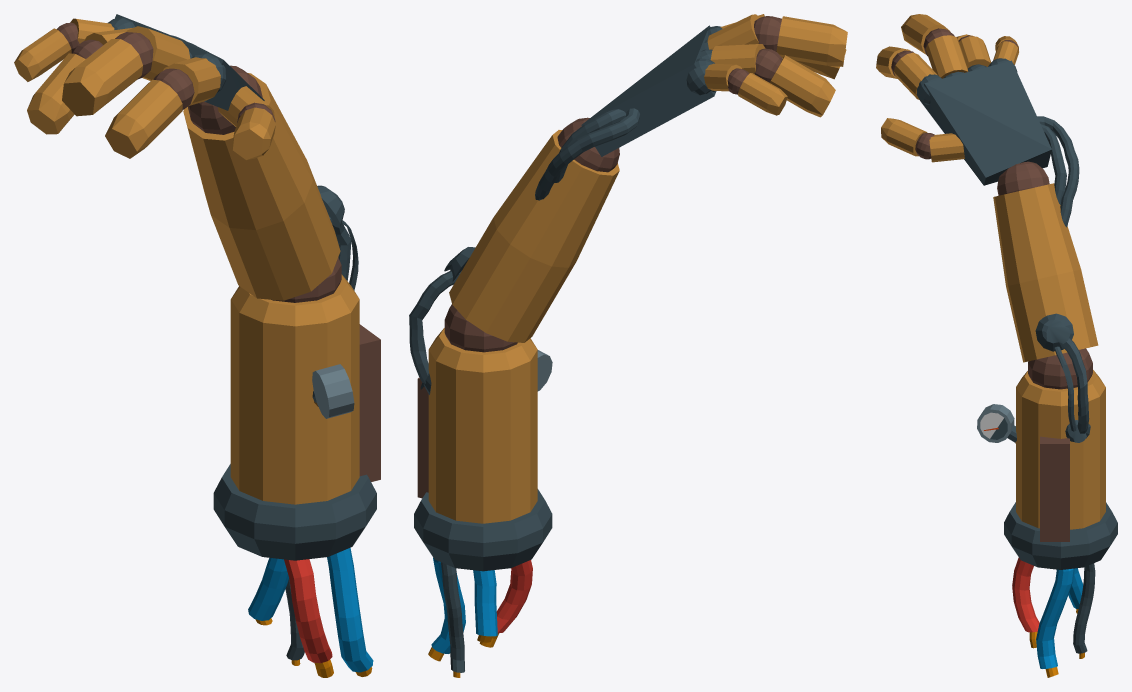
3 renders of one model, left to right at view 1: azimuth 30°, elevation 25°; view 2: azimuth 150°, elevation 25°; view 3: azimuth 270°, elevation 25°, orthographic. The views are drawn at different scales.
Parts seen in each view (by area): view 1: node_MeshObject-115597824-PolyPaper20, node_MeshObject-224328576-PolyPaper17; view 2: node_MeshObject-115597824-PolyPaper20, node_MeshObject-224328576-PolyPaper17; view 3: node_MeshObject-115597824-PolyPaper20, node_MeshObject-224328576-PolyPaper17.
Part boxes in pixels (bbox=[...]): node_MeshObject-115597824-PolyPaper20: bbox=[14, 14, 380, 677]; node_MeshObject-224328576-PolyPaper17: bbox=[213, 102, 376, 560]; node_MeshObject-115597824-PolyPaper20: bbox=[409, 14, 847, 677]; node_MeshObject-224328576-PolyPaper17: bbox=[414, 328, 552, 571]; node_MeshObject-115597824-PolyPaper20: bbox=[876, 14, 1098, 677]; node_MeshObject-224328576-PolyPaper17: bbox=[915, 133, 1117, 569].
Size of the model in its own units: 0.5508 by 0.9967 by 0.4029.
